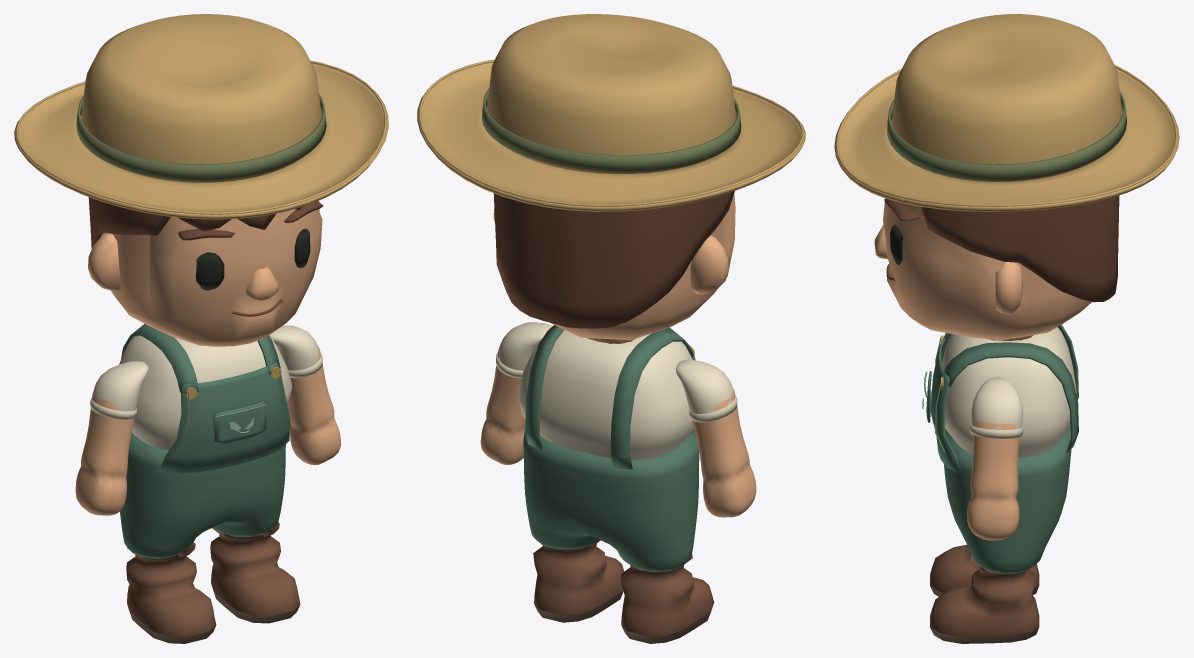
The model's file is gardener-v042.glb.
3 renders of one model, left to right at view 1: azimuth 30°, elevation 25°; view 2: azimuth 150°, elevation 25°; view 3: azimuth 270°, elevation 25°, orthographic. The views are drawn at different scales.
Parts seen in each view (by area): view 1: Straw crown • shaped shoulder and shallow top, Face and ears • adapted KayKit topology, Straw brim • cambered oval with rolled lip, Overalls • continuous waist seat crotch and legs, Bib • fitted curved denim, Shirt • shaped shoulder and torso mesh, Boot 1 • adapted KayKit mesh, Boot -1 • adapted KayKit mesh, Arm R • mirrored continuous forearm, Hat ribbon • fitted olive band, Arm L • KayKit hand and continuous forearm, Hair • short tapered tousled cap (+7 smaller); view 2: Straw crown • shaped shoulder and shallow top, Hair • short tapered tousled cap, Straw brim • cambered oval with rolled lip, Overalls • continuous waist seat crotch and legs, Shirt • shaped shoulder and torso mesh, Boot -1 • adapted KayKit mesh, Boot 1 • adapted KayKit mesh, Face and ears • adapted KayKit topology, Arm R • mirrored continuous forearm, Hat ribbon • fitted olive band, Shoulder strap -1, Arm L • KayKit hand and continuous forearm (+4 smaller); view 3: Straw crown • shaped shoulder and shallow top, Straw brim • cambered oval with rolled lip, Face and ears • adapted KayKit topology, Hair • short tapered tousled cap, Shirt • shaped shoulder and torso mesh, Overalls • continuous waist seat crotch and legs, Boot 1 • adapted KayKit mesh, Arm L • KayKit hand and continuous forearm, Hat ribbon • fitted olive band, Shoulder strap 1, Sleeve 1, Boot -1 • adapted KayKit mesh (+3 smaller).
Part boxes in pixels (x1,y1,x2,y2): Straw crown • shaped shoulder and shallow top: (81,14,321,182); Face and ears • adapted KayKit topology: (88,200,322,346); Straw brim • cambered oval with rolled lip: (14,63,388,219); Overalls • continuous waist seat crotch and legs: (120,433,285,558); Bib • fitted curved denim: (158,362,289,473); Shirt • shaped shoulder and torso mesh: (119,335,292,450); Boot 1 • adapted KayKit mesh: (210,522,300,623); Boot -1 • adapted KayKit mesh: (126,542,216,643); Arm R • mirrored continuous forearm: (75,393,134,515); Hat ribbon • fitted olive band: (76,94,326,180); Arm L • KayKit hand and continuous forearm: (287,348,340,465); Hair • short tapered tousled cap: (88,197,301,248); Straw crown • shaped shoulder and shallow top: (486,14,736,173); Hair • short tapered tousled cap: (493,191,734,328); Straw brim • cambered oval with rolled lip: (417,62,805,211); Overalls • continuous waist seat crotch and legs: (523,429,699,572); Shirt • shaped shoulder and torso mesh: (517,330,694,460); Boot -1 • adapted KayKit mesh: (620,554,713,643); Boot 1 • adapted KayKit mesh: (533,540,624,622); Face and ears • adapted KayKit topology: (493,194,735,340); Arm R • mirrored continuous forearm: (692,389,756,517); Hat ribbon • fitted olive band: (481,88,741,171); Shoulder strap -1: (610,327,693,469); Arm L • KayKit hand and continuous forearm: (480,349,525,464); Straw crown • shaped shoulder and shallow top: (891,14,1122,181); Straw brim • cambered oval with rolled lip: (834,68,1179,211); Face and ears • adapted KayKit topology: (874,198,1091,340); Hair • short tapered tousled cap: (920,195,1119,302); Shirt • shaped shoulder and torso mesh: (942,327,1076,457); Overalls • continuous waist seat crotch and legs: (944,424,1071,574); Boot 1 • adapted KayKit mesh: (930,554,1039,643); Arm L • KayKit hand and continuous forearm: (967,420,1019,540); Hat ribbon • fitted olive band: (887,91,1126,180); Shoulder strap 1: (940,342,1078,453); Sleeve 1: (971,377,1022,429); Boot -1 • adapted KayKit mesh: (930,544,1039,596).
Size of the model in its own units: 1.46 by 2.31 by 1.3.
